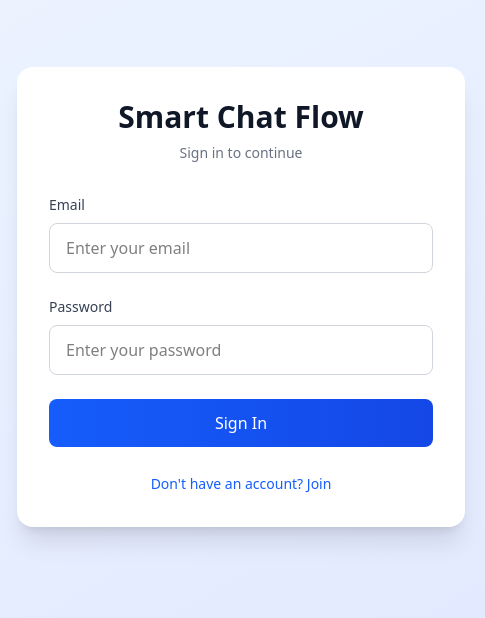
Auth Component › Join Mode › switches to join mode
Click the button "Don't have an account? Join": x=241, y=484 [151,474,331,494]
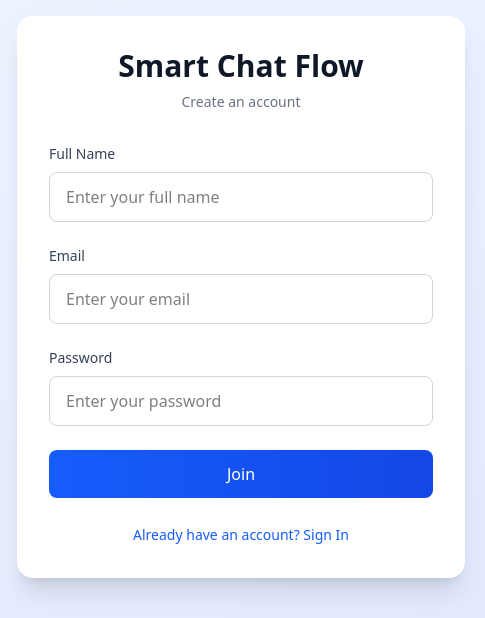
Check: the text "Create an account" is shown, box [182,92,300,111]
Check: the field labelled "Full Name" is shown, box [49,172,433,222]
Check: the button "Join" is shown, box [49,450,433,498]
